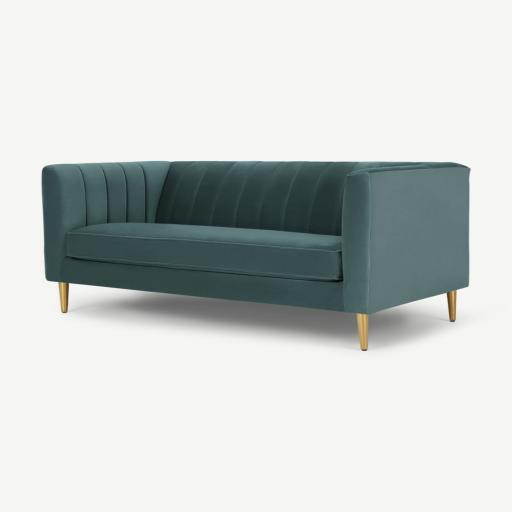back_cushion: (155, 162, 381, 235)
base: (61, 257, 348, 311)
left_arm: (342, 167, 468, 313)
legs: (357, 314, 368, 351), (59, 282, 68, 312), (448, 290, 456, 322), (249, 300, 266, 302)
one-seater: (0, 0, 511, 512)
right_arm: (42, 161, 170, 281)
seat_cushion: (66, 223, 342, 281)
